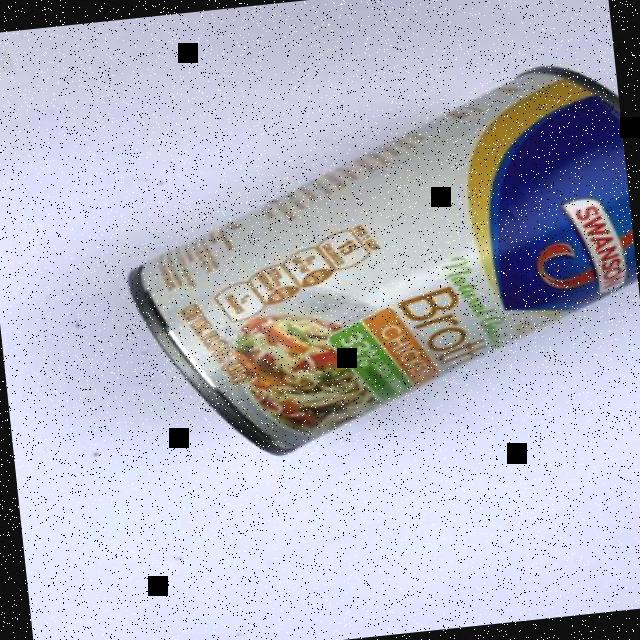can: (100, 53, 640, 474)
